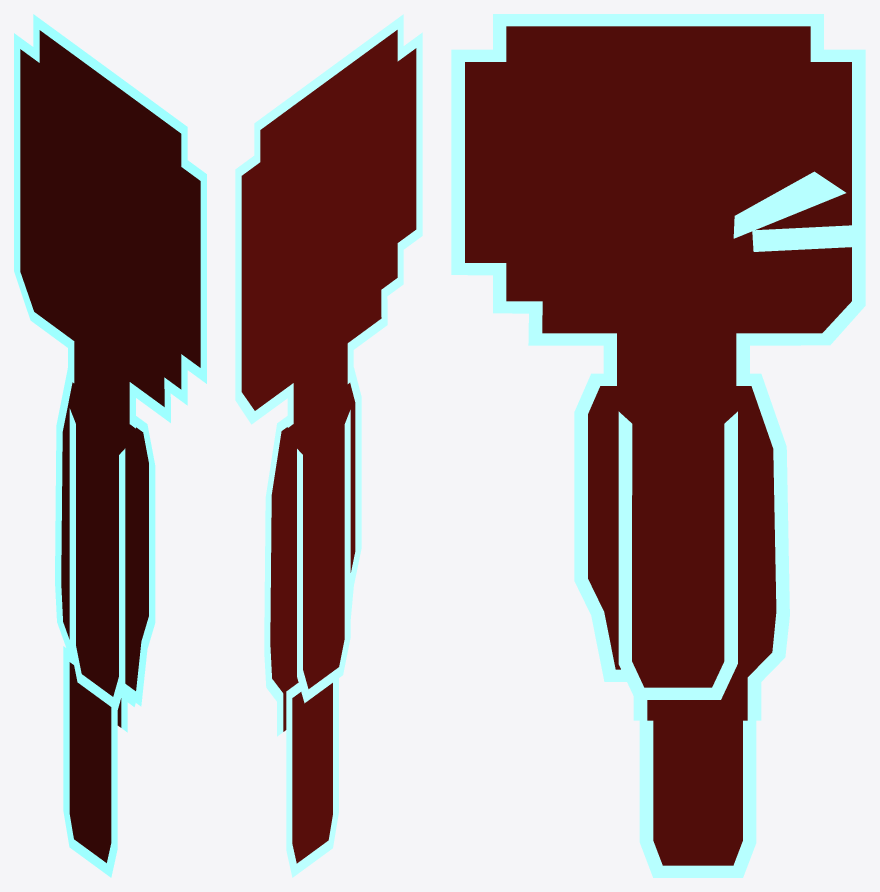
File: SORROW (Right).fbx
3 renders of one model, left to right at view 1: azimuth 30°, elevation 25°; view 2: azimuth 150°, elevation 25°; view 3: azimuth 270°, elevation 25°, orthographic. The views are drawn at different scales.
Visible parts, largest first — view 1: Plane.120, Plane.026, Plane.113, Plane.119; view 2: Plane.120, Plane.026, Plane.113, Plane.119; view 3: Plane.120, Plane.113, Plane.111, Plane.119, Plane.108, Plane.075.
Part boxes in pixels (x1,y1,x2,y2): Plane.120: (14, 14, 206, 428); Plane.026: (69, 408, 125, 710); Plane.113: (55, 368, 155, 732); Plane.119: (63, 646, 117, 877); Plane.120: (235, 14, 422, 427); Plane.026: (297, 409, 350, 703); Plane.113: (264, 367, 361, 736); Plane.119: (286, 678, 338, 877); Plane.120: (451, 14, 865, 373); Plane.113: (574, 373, 789, 720); Plane.111: (618, 411, 737, 699); Plane.119: (639, 720, 756, 877); Plane.108: (733, 171, 845, 238); Plane.075: (752, 225, 853, 251).
Bounding box in the file's own units: 9.1 × 408 × 177.
